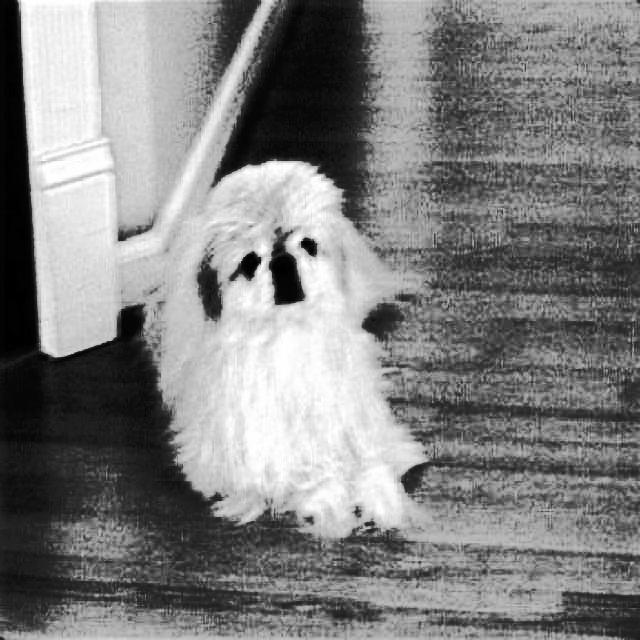Dog: (131, 152, 432, 546)
